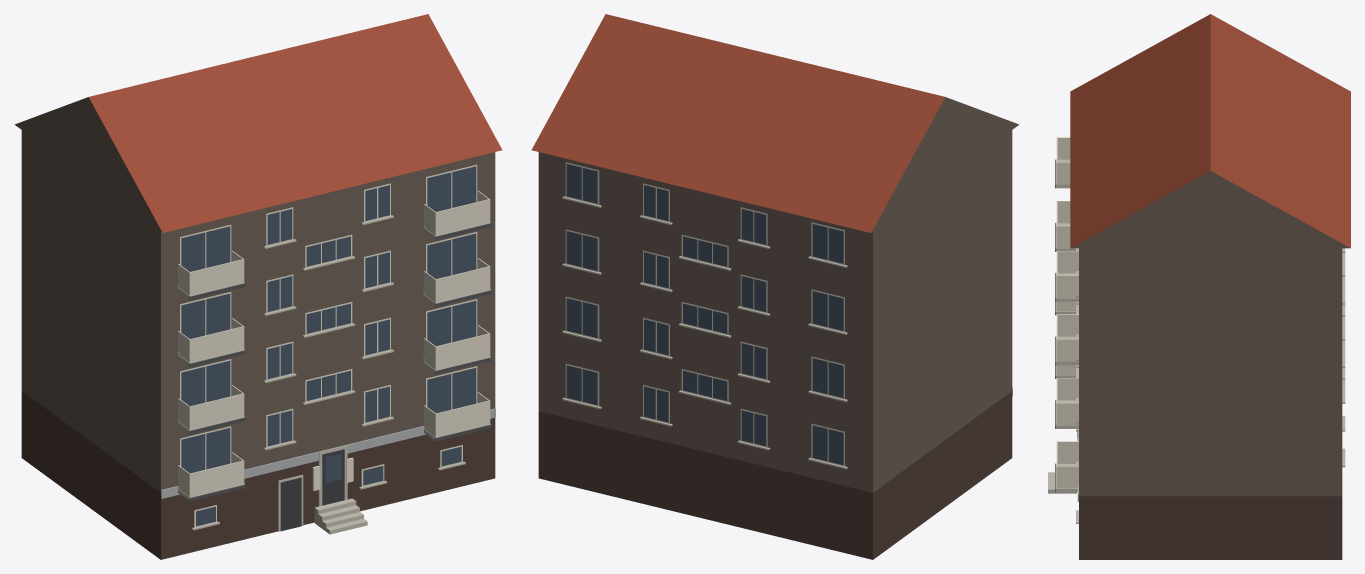
Rendered from nw-portiek-plinth-hip__buff-brown__5__gable__long__solid.glb.
3 renders of one model, left to right at view 1: azimuth 30°, elevation 25°; view 2: azimuth 150°, elevation 25°; view 3: azimuth 270°, elevation 25°, orthographic. The views are drawn at different scales.
Parts seen in each view (by area): view 1: nw-portiek-plinth-hip__buff-brown__5__gable__long__solid; view 2: nw-portiek-plinth-hip__buff-brown__5__gable__long__solid; view 3: nw-portiek-plinth-hip__buff-brown__5__gable__long__solid.
Boxes of the visible parts, box(x1,y1,x2,y2) form: nw-portiek-plinth-hip__buff-brown__5__gable__long__solid: box(14, 14, 502, 559); nw-portiek-plinth-hip__buff-brown__5__gable__long__solid: box(531, 14, 1019, 559); nw-portiek-plinth-hip__buff-brown__5__gable__long__solid: box(1048, 14, 1350, 559).
Bounding box in the file's own units: 15.31 × 17.77 × 12.5.
